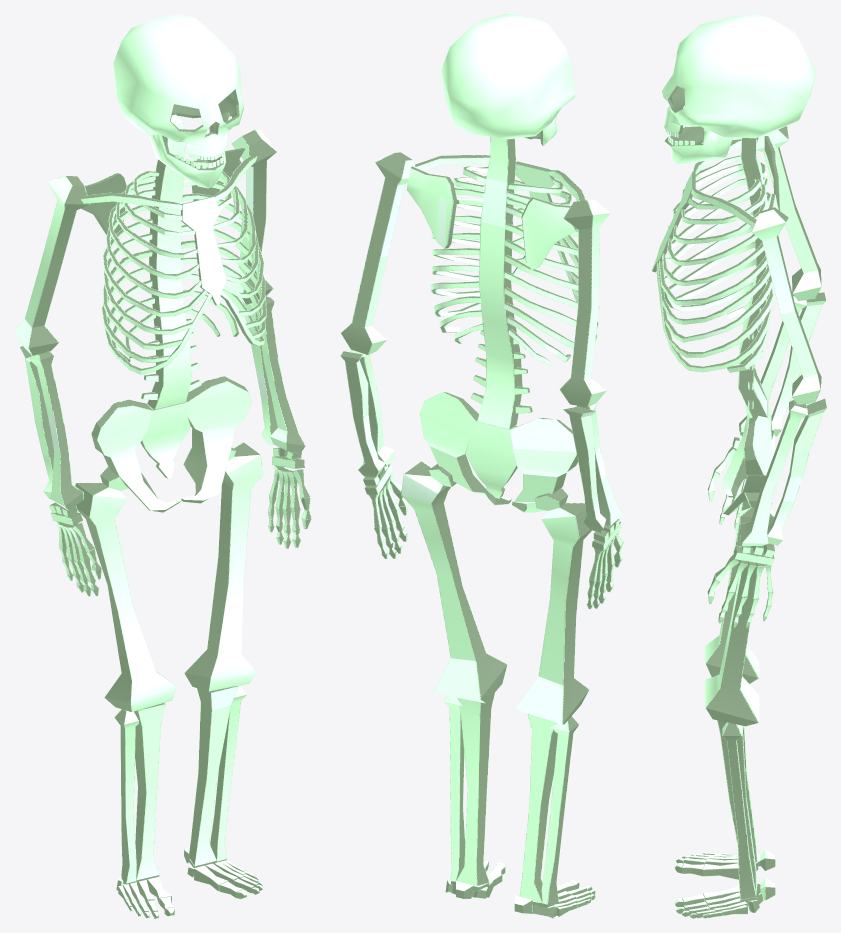
The model's file is Skeleton.fbx.
The picture shows the model from 3 angles, left to right: view 1: azimuth 30°, elevation 25°; view 2: azimuth 150°, elevation 25°; view 3: azimuth 270°, elevation 25°; orthographic projection. The views are drawn at different scales.
Visible parts, largest first — view 1: C_Skeleton; view 2: C_Skeleton; view 3: C_Skeleton.
Boxes of the visible parts, x1,y1,x2,y2 form: C_Skeleton: [14, 14, 311, 918]; C_Skeleton: [340, 14, 623, 918]; C_Skeleton: [652, 14, 826, 918].
Size of the model in its own units: 18.29 by 10.86 by 59.52.
